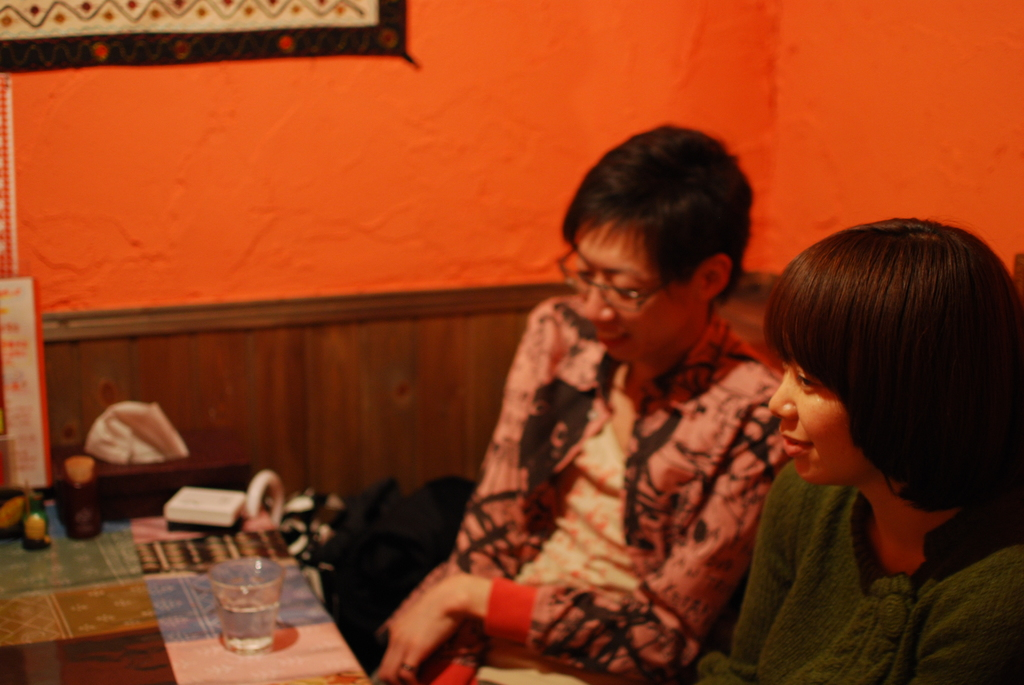Human_hand: (380, 558, 461, 673)
